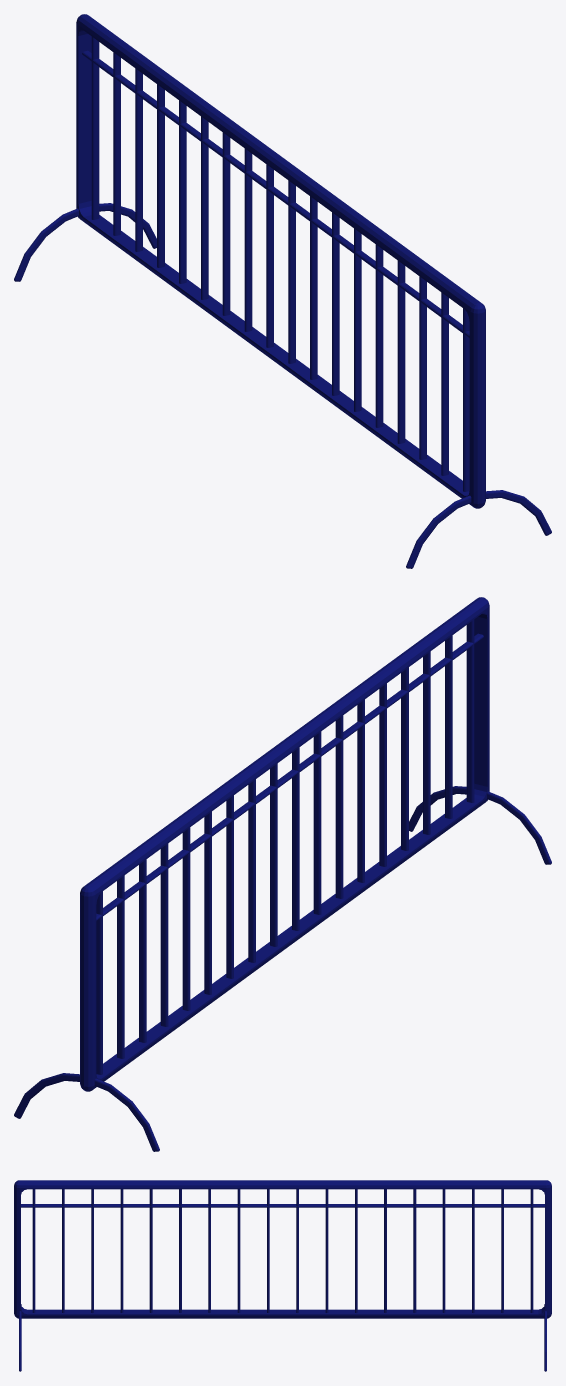
The model's file is crowd control.fbx.
3 renders of one model, top to bottom at view 1: azimuth 30°, elevation 25°; view 2: azimuth 150°, elevation 25°; view 3: azimuth 270°, elevation 25°, orthographic. The views are drawn at different scales.
Parts seen in each view (by area): view 1: CROWD_CONTROL_1; view 2: CROWD_CONTROL_1; view 3: CROWD_CONTROL_1.
Boxes of the visible parts, x1,y1,x2,y2 form: CROWD_CONTROL_1: (14, 14, 551, 568); CROWD_CONTROL_1: (14, 597, 551, 1151); CROWD_CONTROL_1: (14, 1180, 551, 1371).
Size of the model in its own units: 40.77 by 67.07 by 195.
